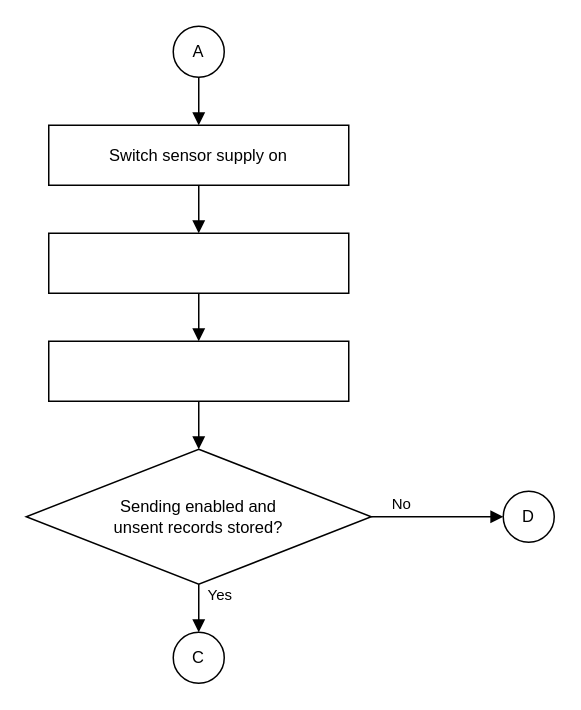
Image size: 581x710. Some labels were removed from this diagram. Each missing label, with the centre of its shape:
"Record warm-up start time" belongs at point 198,262.
"Wake flash" belongs at point 198,370.
